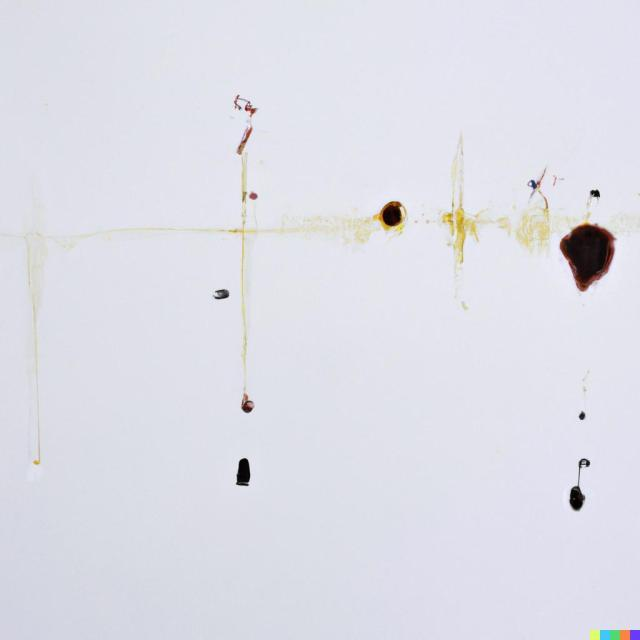flood: (538, 204, 620, 288)
